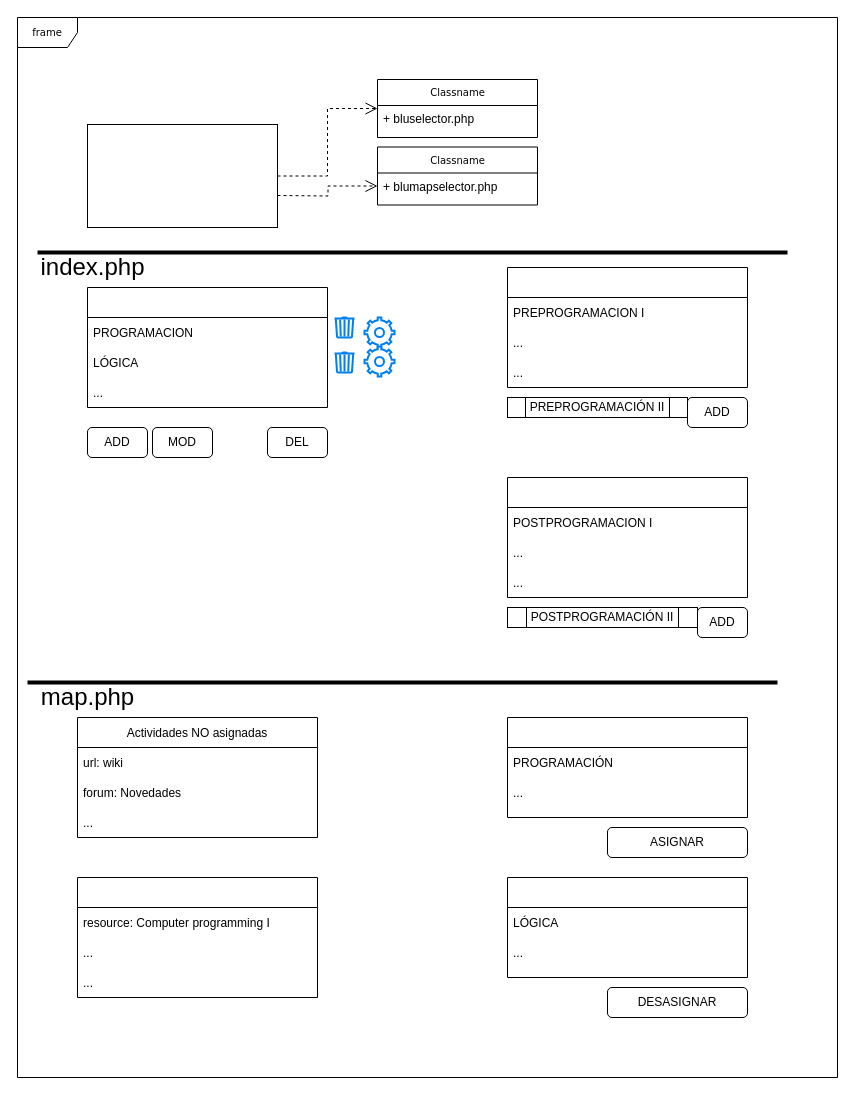
The diagram is 855 pixels wide and 1095 high, and some of its shapes have lost their labels. Here are the shapes that lost their labels. From the top down, the box of each, then its label:
(86, 124, 278, 228): BLUMOD block (block_blumod.php) + BLU manager: index.php + BLU map: map.php
(86, 286, 328, 408): BLU manager
(506, 266, 748, 388): BLU predecesoras
(506, 476, 748, 598): BLU subsiguientes
(506, 716, 748, 818): BLUs en el curso
(76, 876, 318, 998): Actividades YA asignadas
(506, 876, 748, 978): BLUs asignadas a actividad
